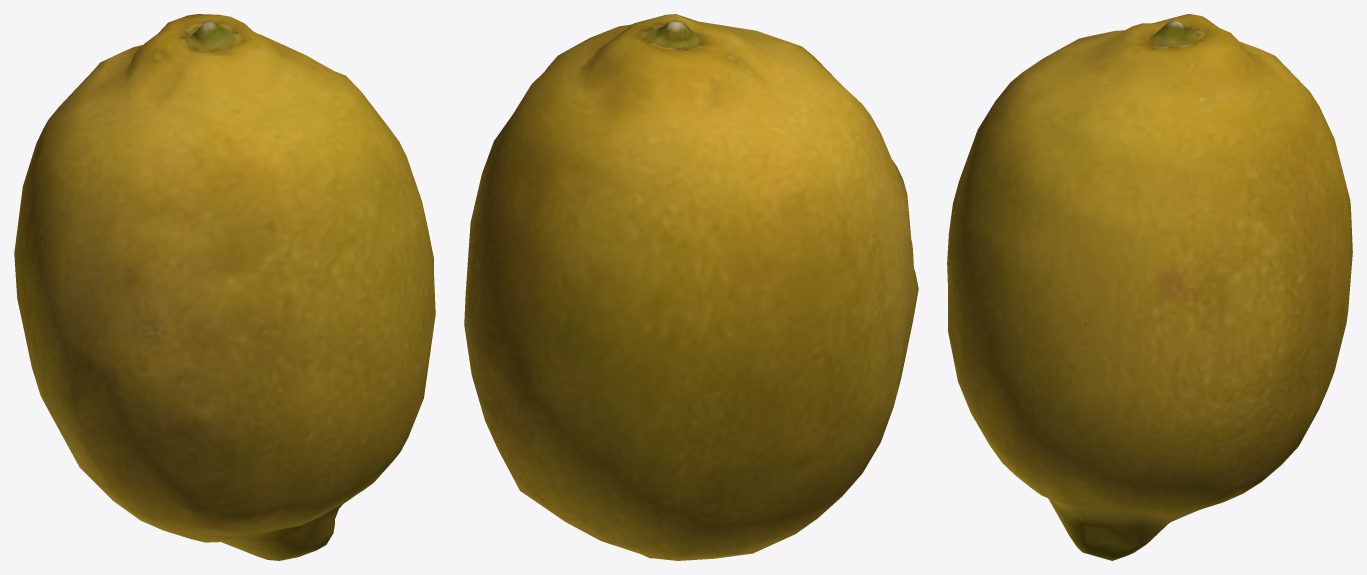
File: lemon.glb
3 views of the same model, side by side, from view 1: azimuth 30°, elevation 25°; view 2: azimuth 150°, elevation 25°; view 3: azimuth 270°, elevation 25° (orthographic). The views are drawn at different scales.
Visible parts, largest first — view 1: lemon; view 2: lemon; view 3: lemon.
Boxes of the visible parts, x1=… form: lemon: x1=14, y1=14, x2=435, y2=560; lemon: x1=464, y1=14, x2=918, y2=560; lemon: x1=947, y1=14, x2=1352, y2=560.
Bounding box in the file's own units: 0.0686 × 0.0953 × 0.0682.
Materials: 1 (1 with a texture image).
